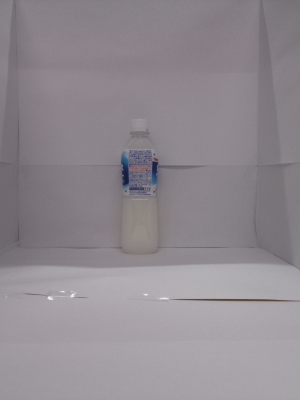カルピス: (113, 114, 169, 262)
